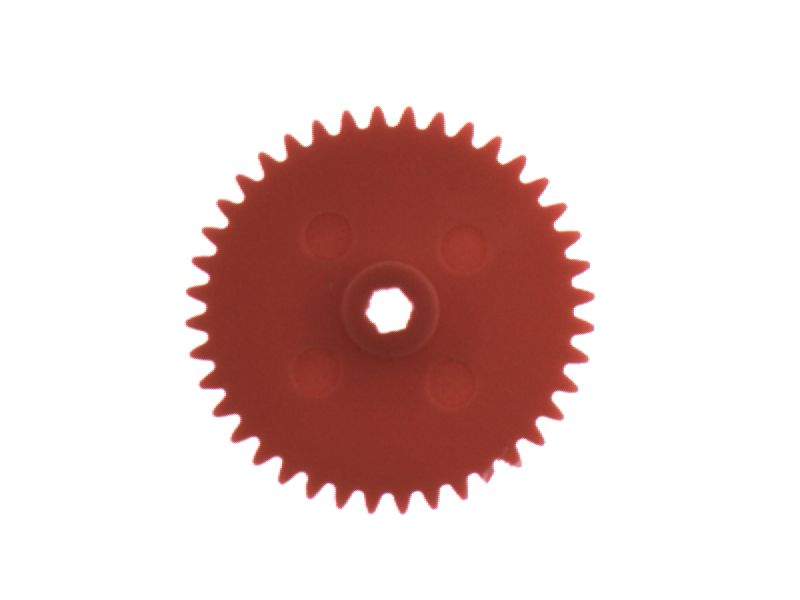defect_break: (465, 449, 517, 497)
